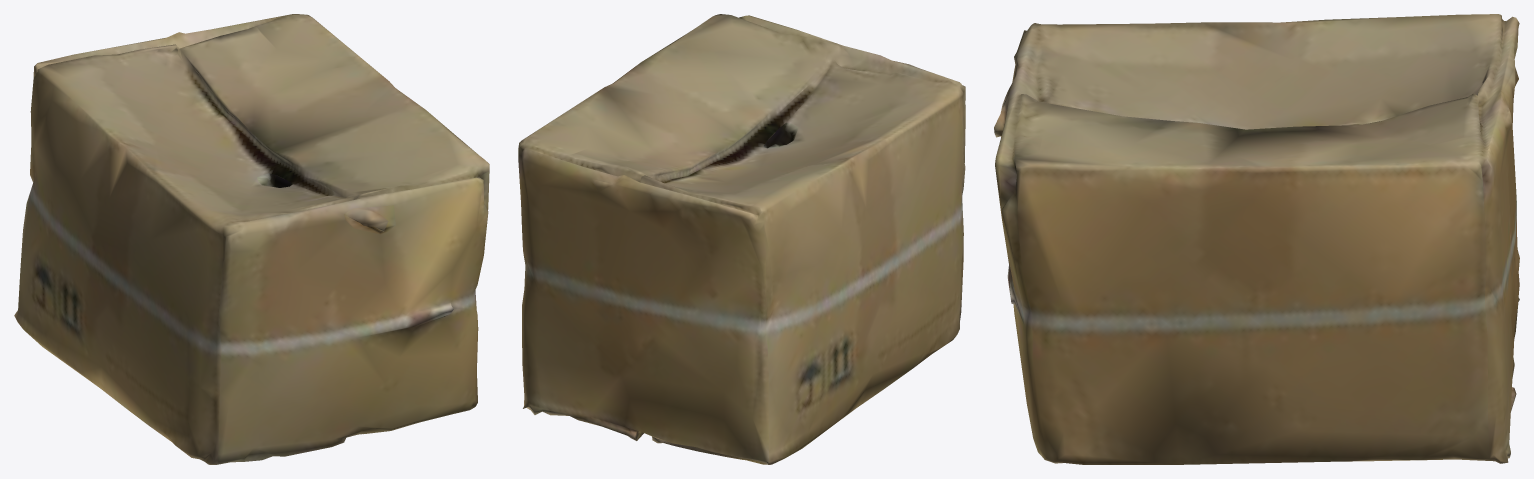
The model's file is cardboard.glb.
3 renders of one model, left to right at view 1: azimuth 30°, elevation 25°; view 2: azimuth 150°, elevation 25°; view 3: azimuth 270°, elevation 25°, orthographic. The views are drawn at different scales.
Visible parts, largest first — view 1: cardboard_box_01; view 2: cardboard_box_01; view 3: cardboard_box_01.
Part boxes in pixels (x1,y1,x2,y2): cardboard_box_01: [14, 14, 489, 464]; cardboard_box_01: [518, 14, 965, 464]; cardboard_box_01: [994, 14, 1519, 464].
Size of the model in its own units: 0.3865 by 0.3418 by 0.5159.
Materials: 1 (1 with a texture image).
